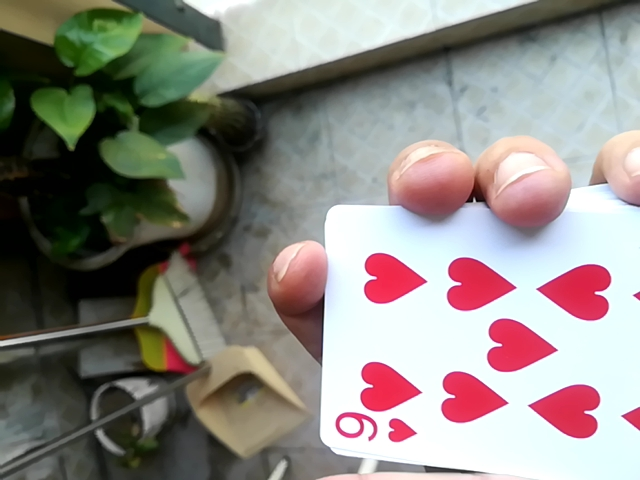hx 9: (302, 152, 640, 475)
